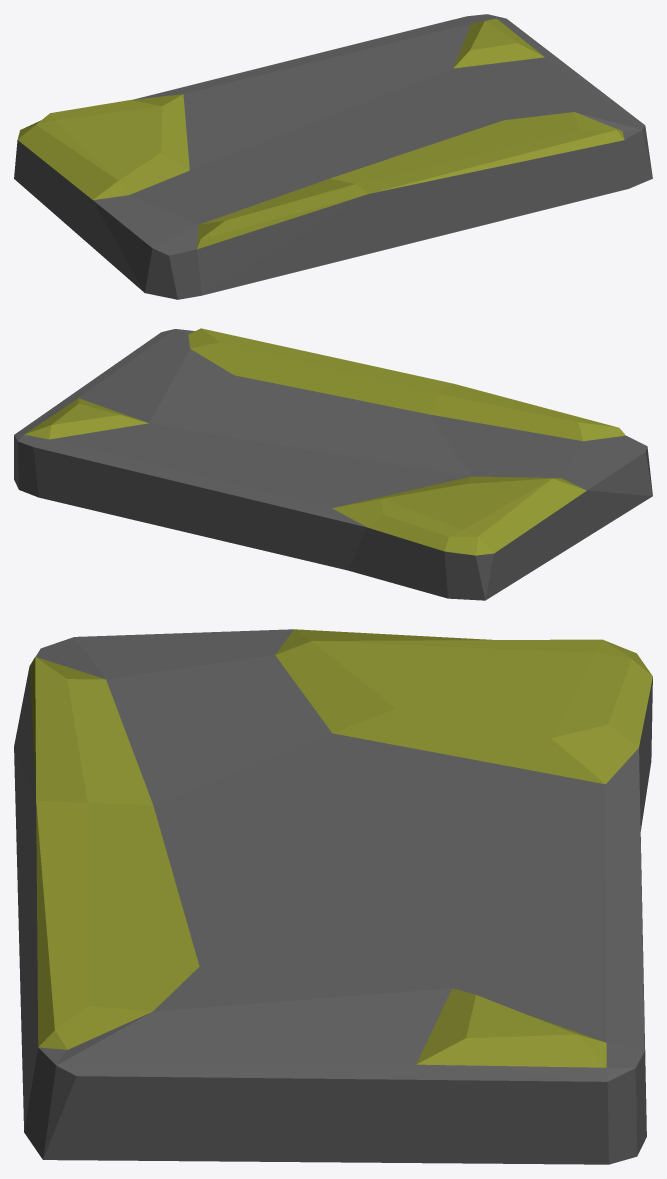
Rendered from tile_moss_type_1_LOD2.fbx.
The picture shows the model from 3 angles, top to bottom: view 1: azimuth 30°, elevation 25°; view 2: azimuth 150°, elevation 25°; view 3: azimuth 270°, elevation 25°; orthographic projection. The views are drawn at different scales.
Parts seen in each view (by area): view 1: tile_moss_type_1; view 2: tile_moss_type_1; view 3: tile_moss_type_1.
Boxes of the visible parts, box(x1,y1,x2,y2) form: tile_moss_type_1: box(14, 14, 652, 299); tile_moss_type_1: box(14, 328, 652, 600); tile_moss_type_1: box(14, 629, 652, 1164).
Bounding box in the file's own units: 201 × 23.08 × 119.
